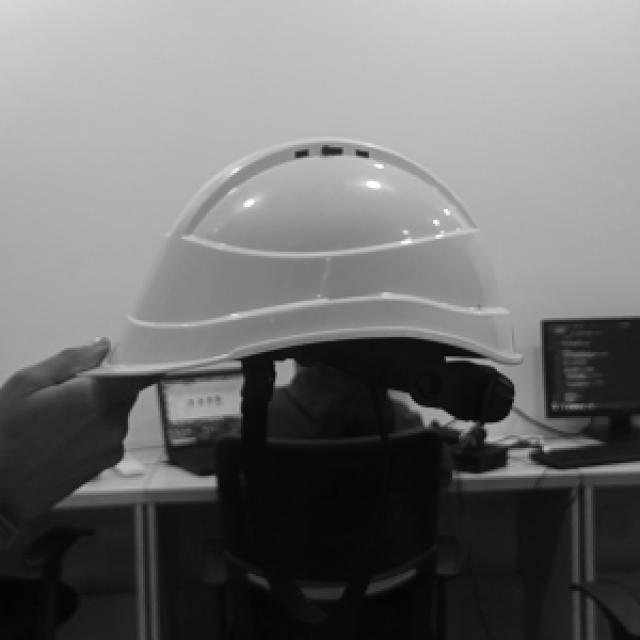safety_helmet: (87, 134, 520, 373)
